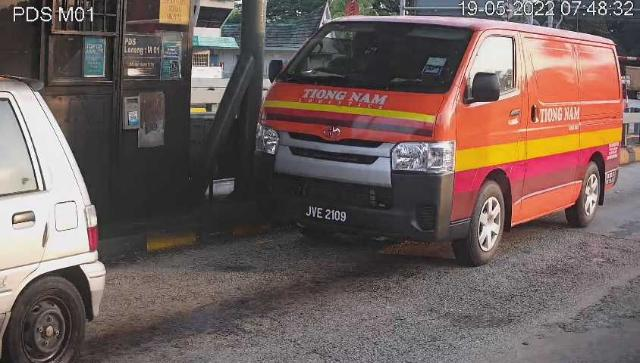License_Plate: (302, 204, 352, 231)
van: (254, 17, 622, 267)
